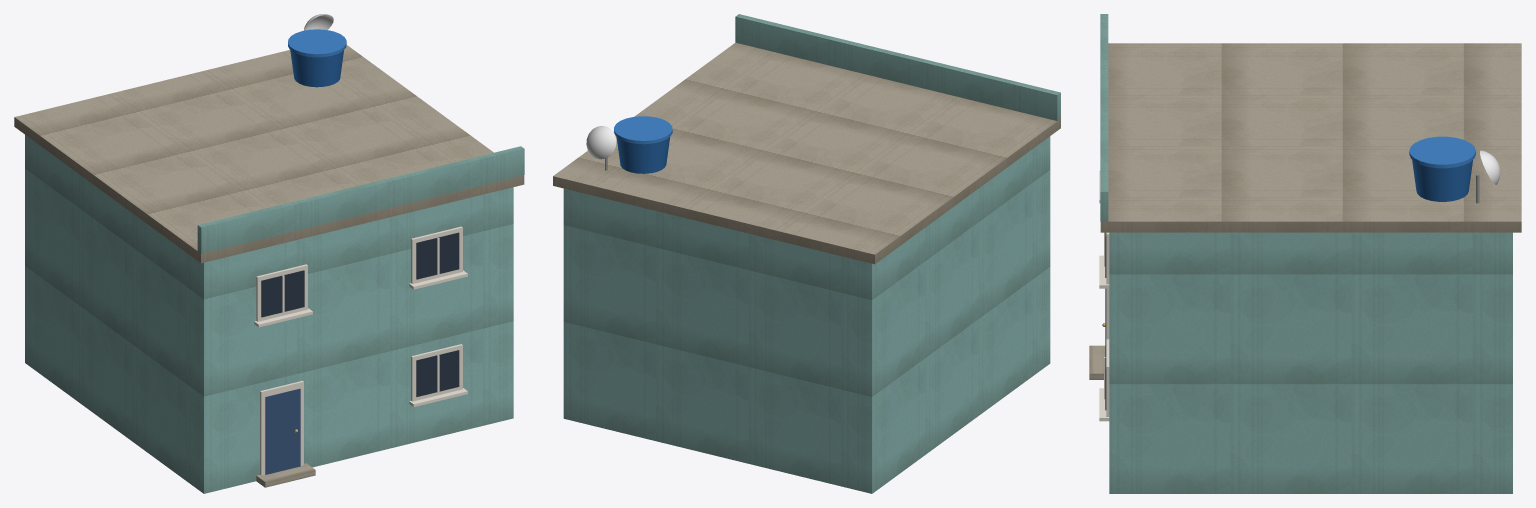
File: casa-reboco-2-andares.glb
3 views of the same model, side by side, from view 1: azimuth 30°, elevation 25°; view 2: azimuth 150°, elevation 25°; view 3: azimuth 270°, elevation 25° (orthographic). The views are drawn at different scales.
Parts seen in each view (by area): view 1: casa-reboco-2-andares; view 2: casa-reboco-2-andares; view 3: casa-reboco-2-andares.
Boxes of the visible parts, box(x1,y1,x2,y2) form: casa-reboco-2-andares: box(14, 14, 524, 493); casa-reboco-2-andares: box(553, 14, 1060, 493); casa-reboco-2-andares: box(1089, 14, 1521, 493).
Bounding box in the file's own units: 8.35 × 7.14 × 8.58.
Materials: 10 (2 with a texture image).
